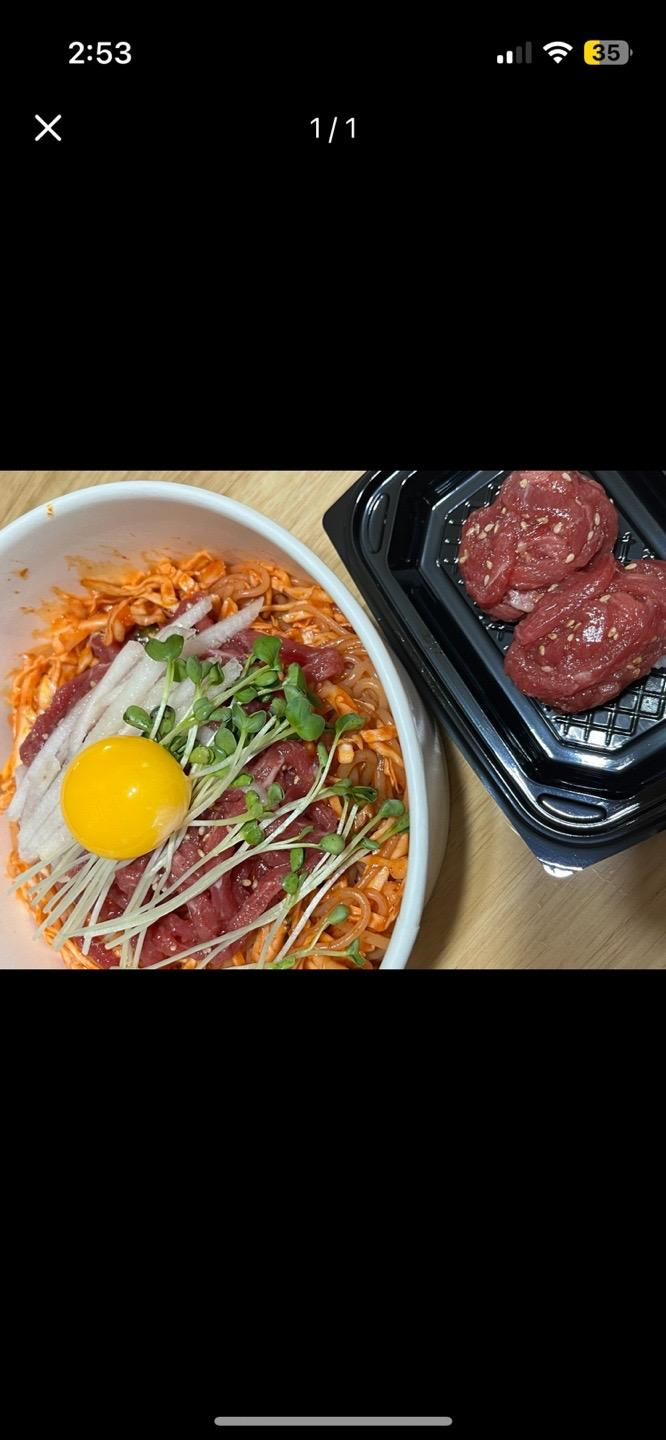Lunch Box: (0, 482, 449, 973), (323, 469, 665, 871)
